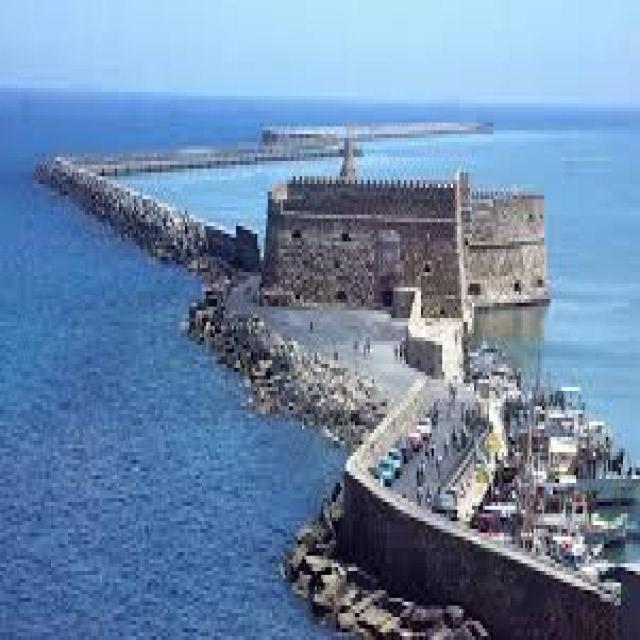Kules: (260, 145, 553, 309)
